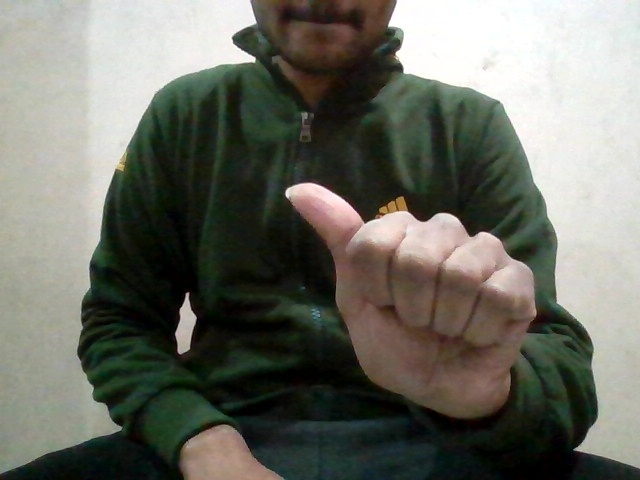A: (280, 183, 538, 417)
